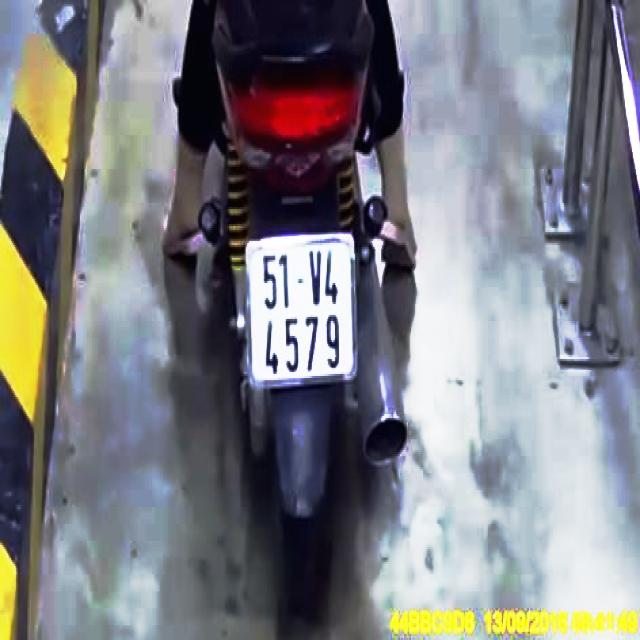license_plate: (247, 241, 358, 380)
